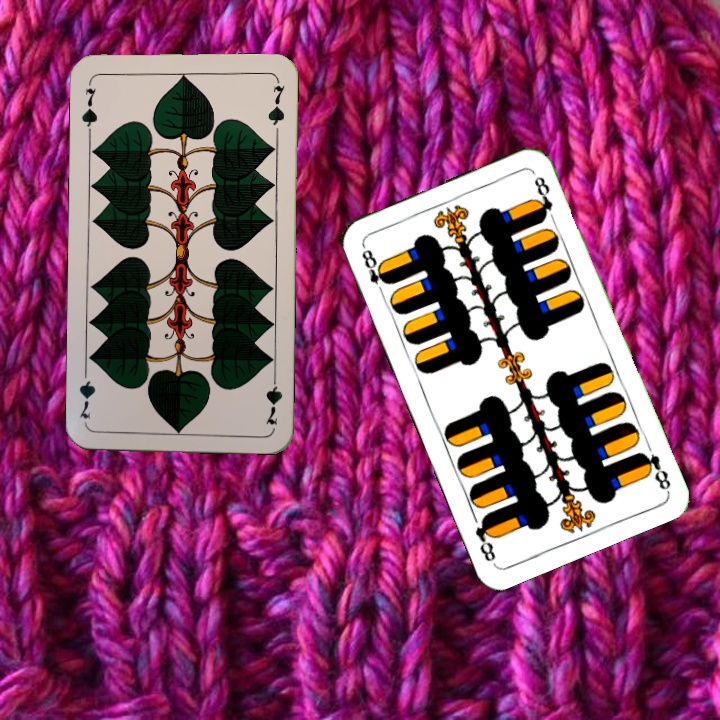E8: (357, 241, 393, 298), (635, 448, 673, 494)
G7: (261, 369, 285, 428), (77, 83, 100, 135)
